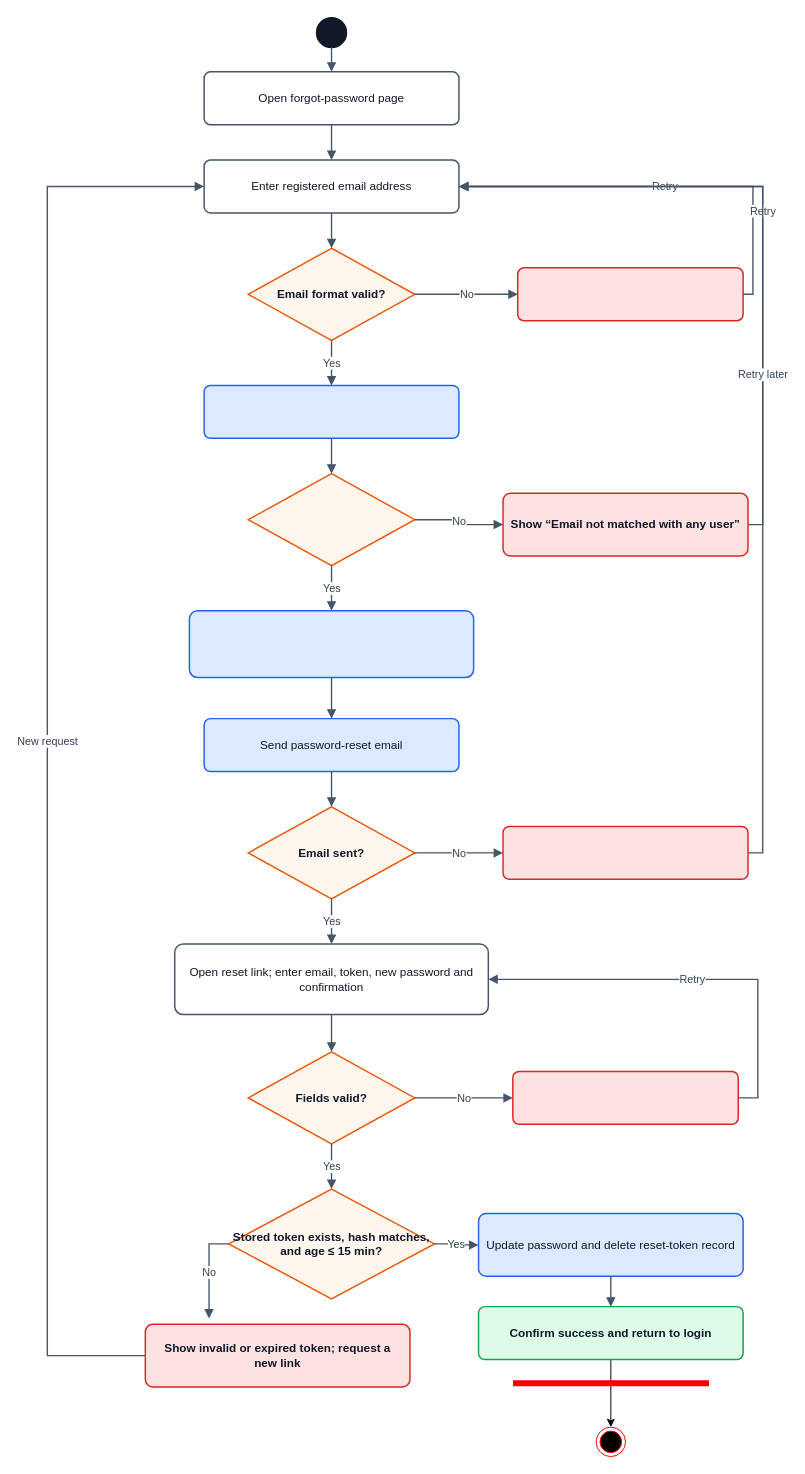
This 805x1474 diagram has some shape labels left out. The shapes that lost their labels are listed below. From the top down, each one's centre as x and y in pixels, then its label:
At point 630,294: "Show email validation error".
At point 331,411: "Look up user by email".
At point 331,519: "Account found?".
At point 331,644: "Generate 64-character token; store its hash and timestamp".
At point 625,852: "Show temporary send failure".
At point 625,1097: "Show validation errors".
